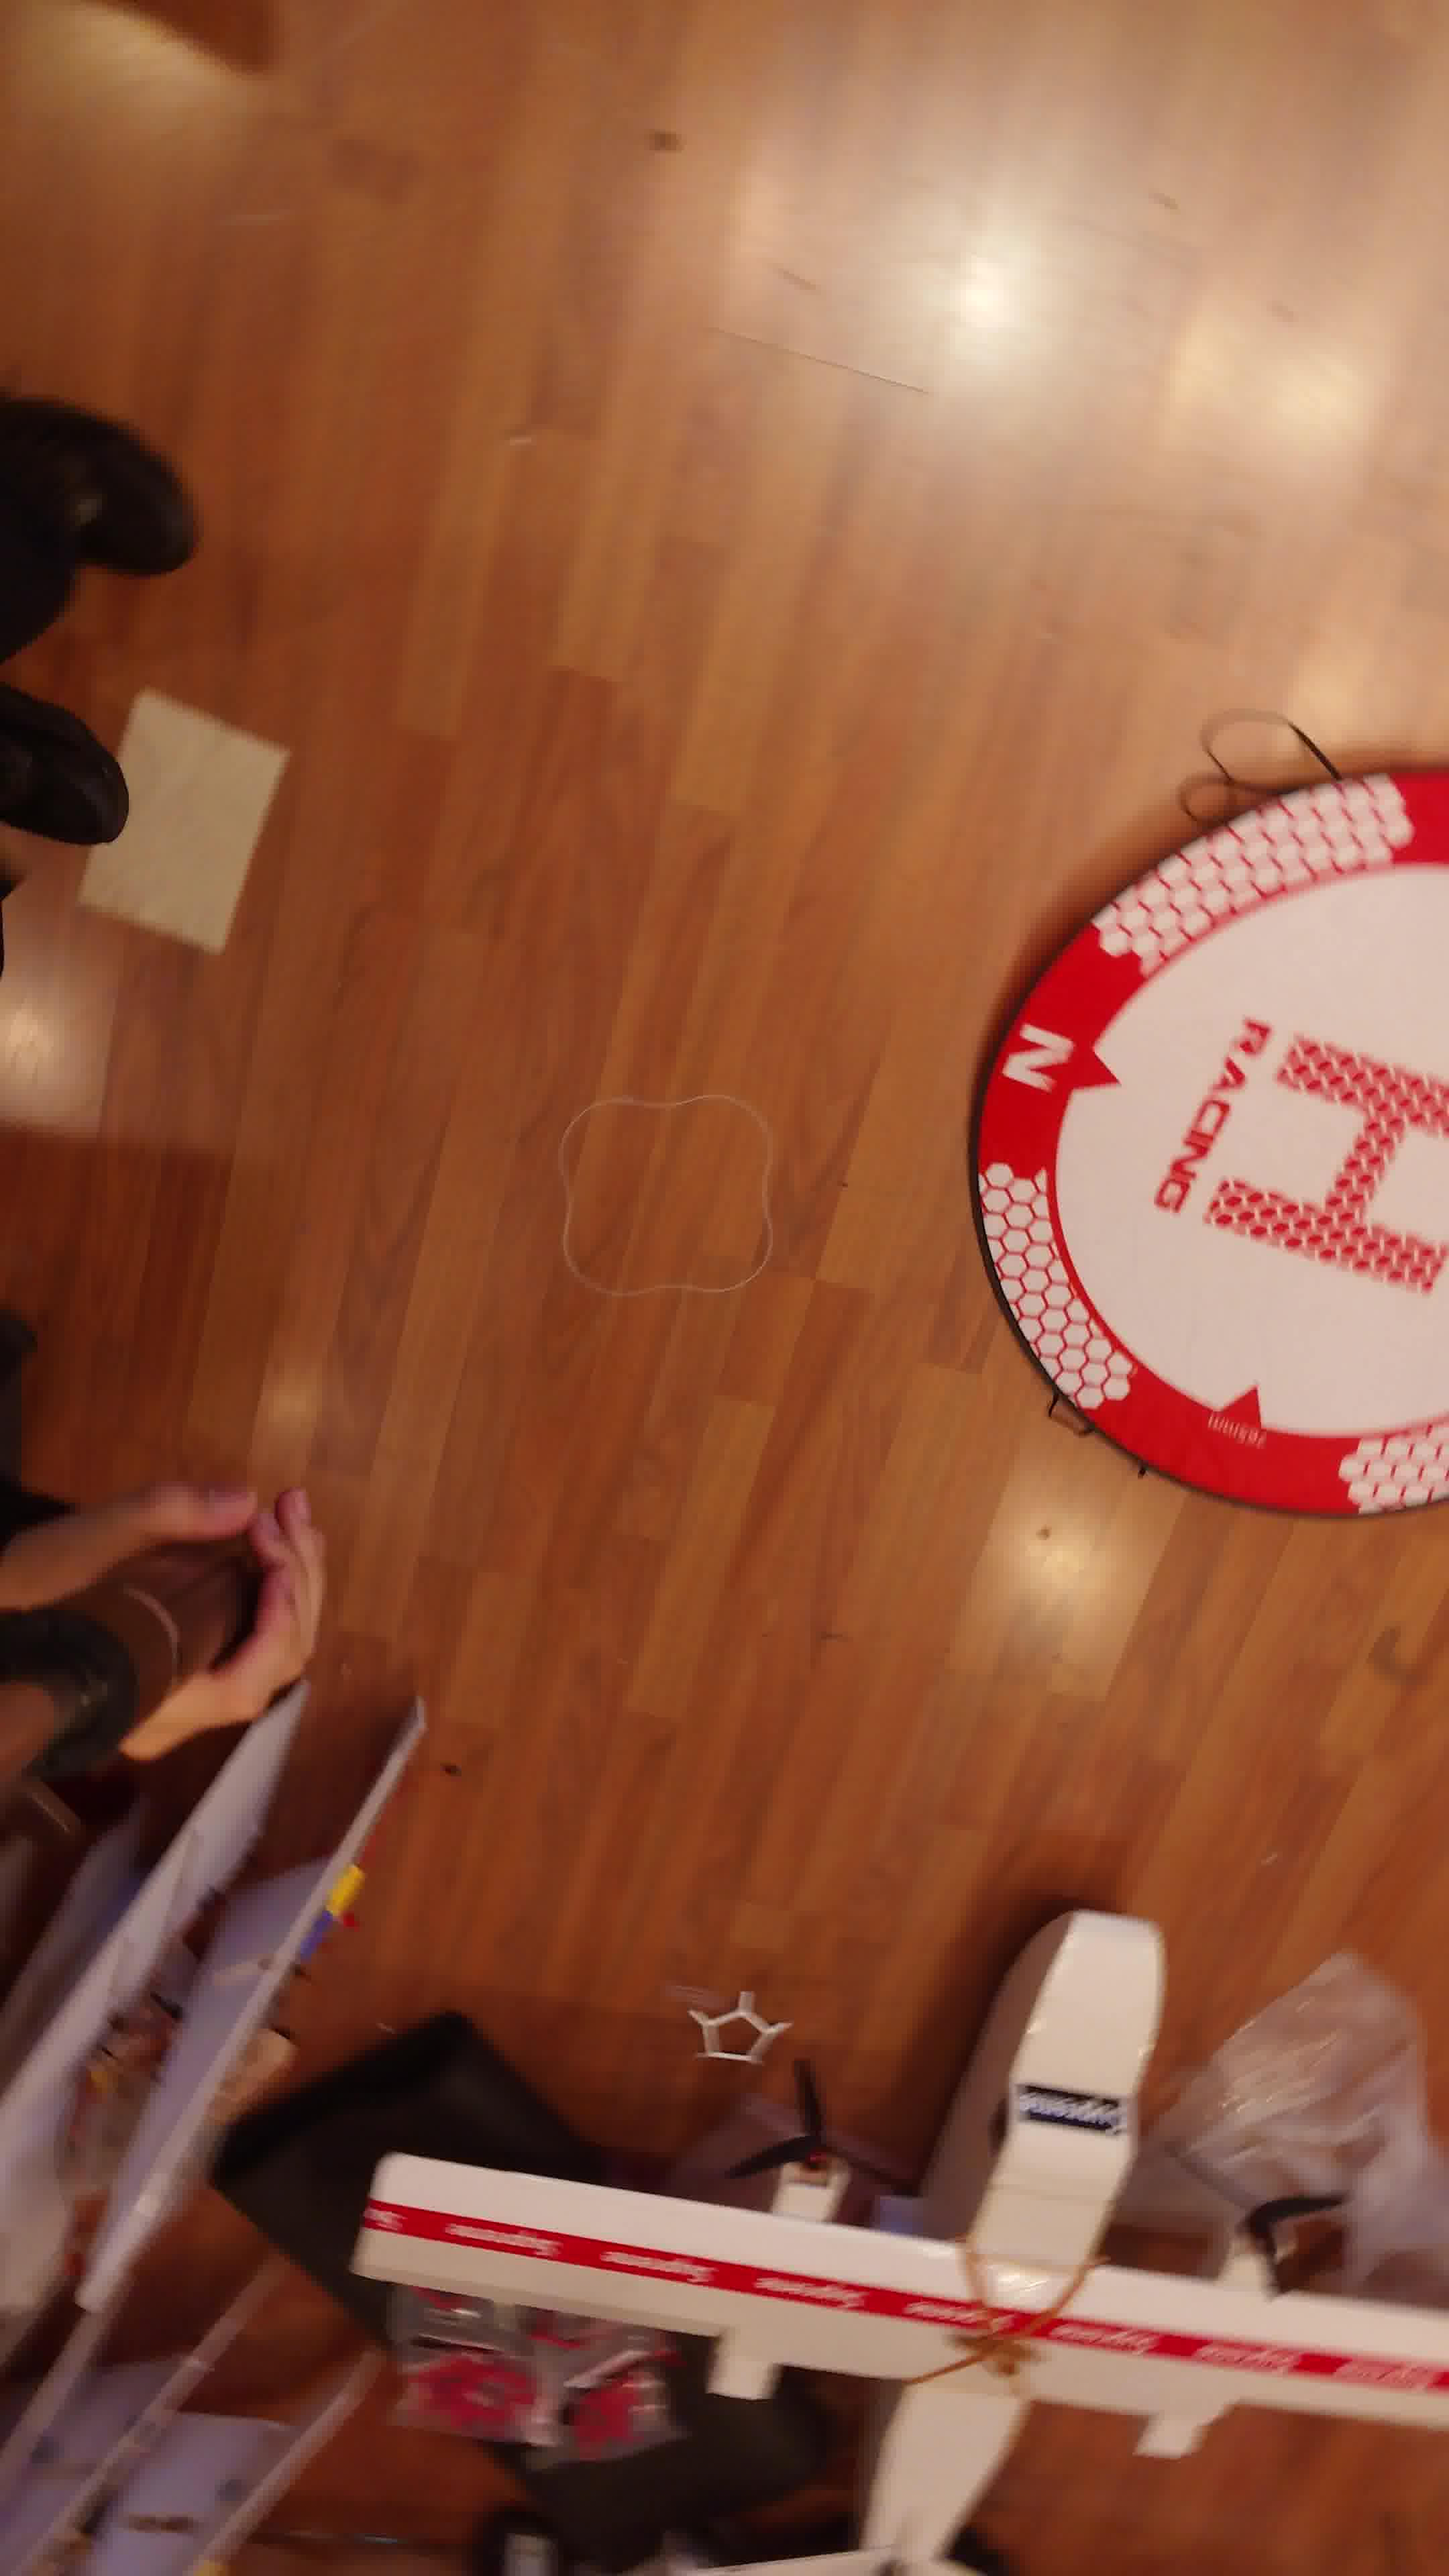H: (1203, 1033, 1449, 1295)
